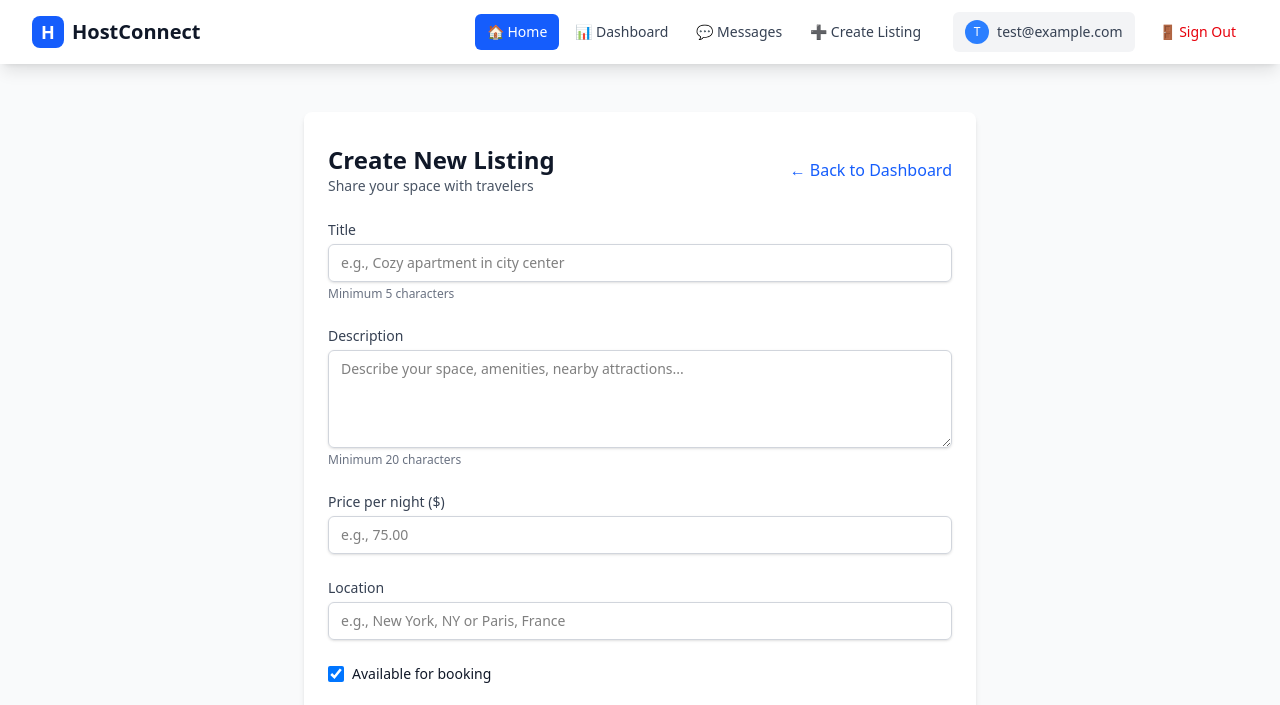
Test: CreateListing Form Validation › validates minimum field lengths
Note: Fill in fields with insufficient length
Type "Hi" into the field labelled "Title" at (640, 263), box [328, 244, 952, 282]
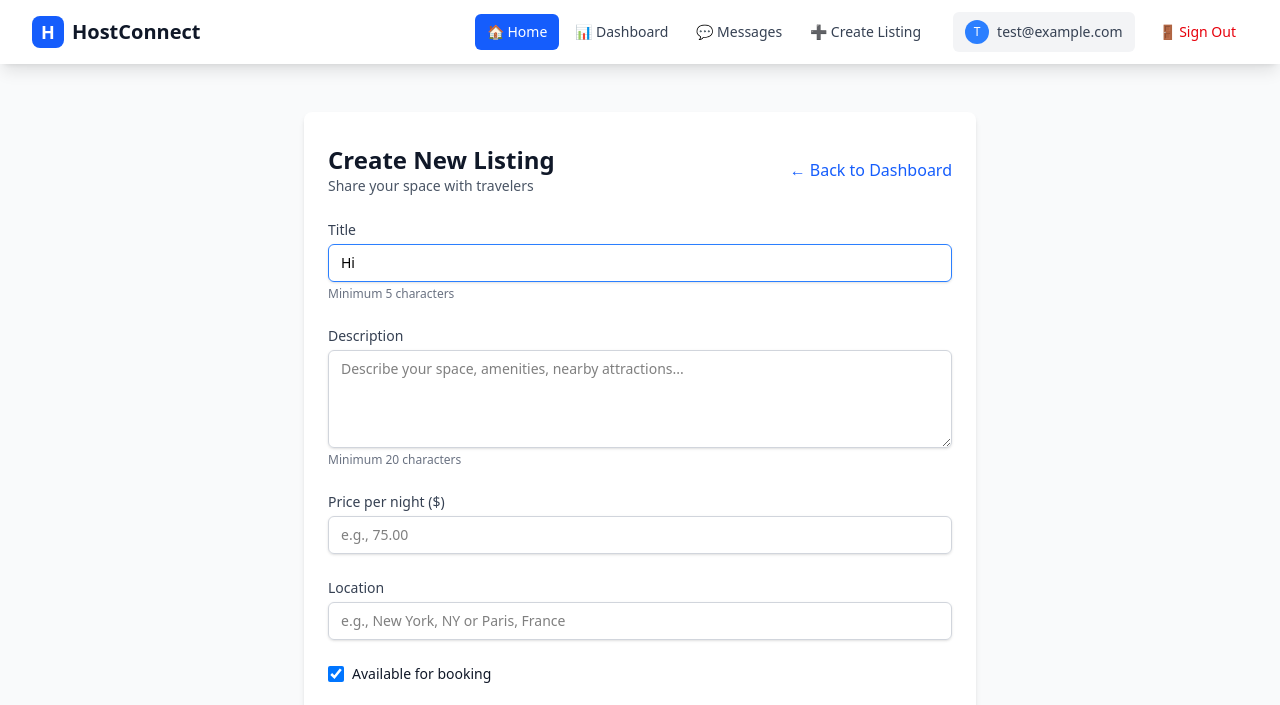
Type "Short" into the text box labelled "Description" at (640, 399), box [328, 350, 952, 448]
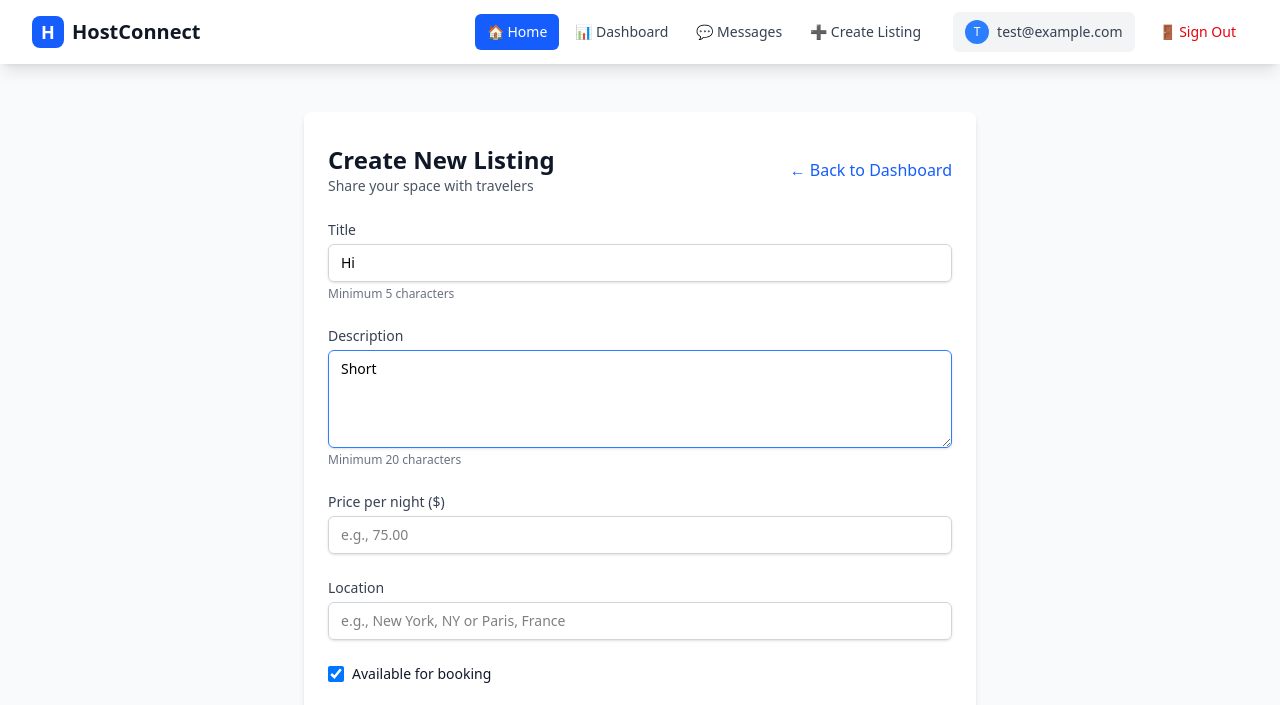
Type "NY" into the field labelled "Location" at (640, 621), box [328, 602, 952, 640]
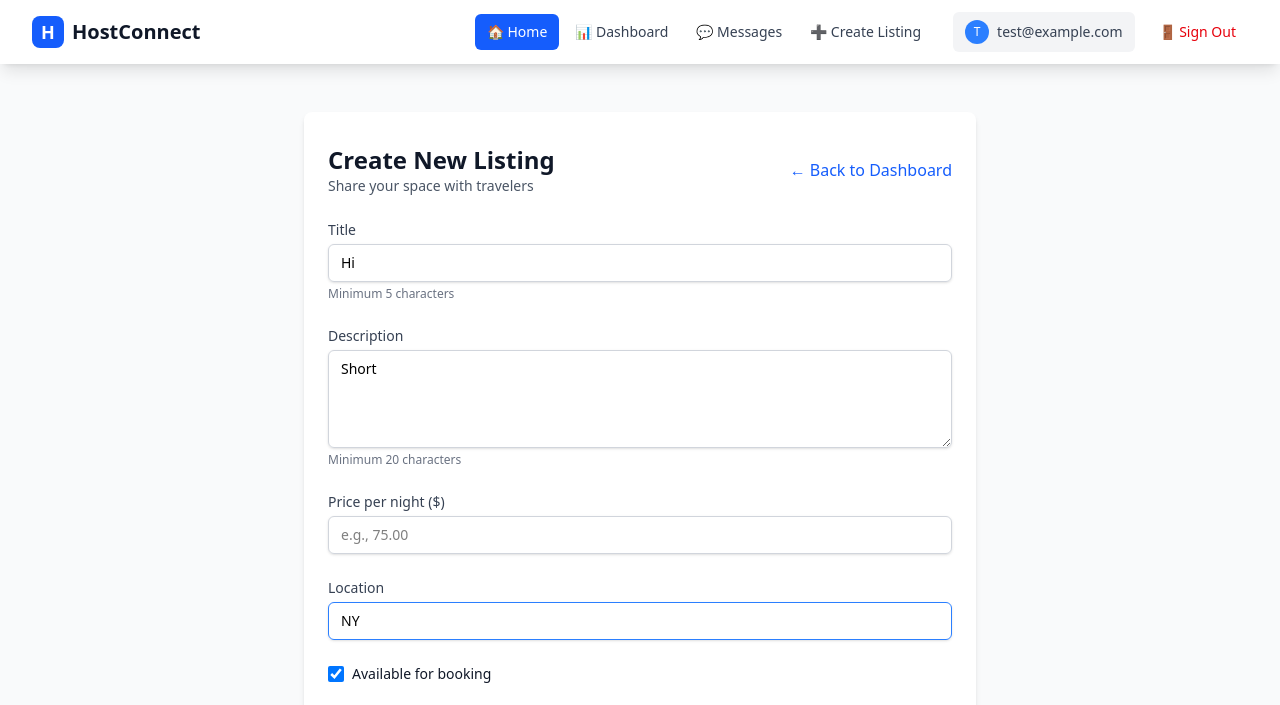
Type "50" into the number field labelled "Price per night ($)" at (640, 535), box [328, 516, 952, 554]
(page scrolled)
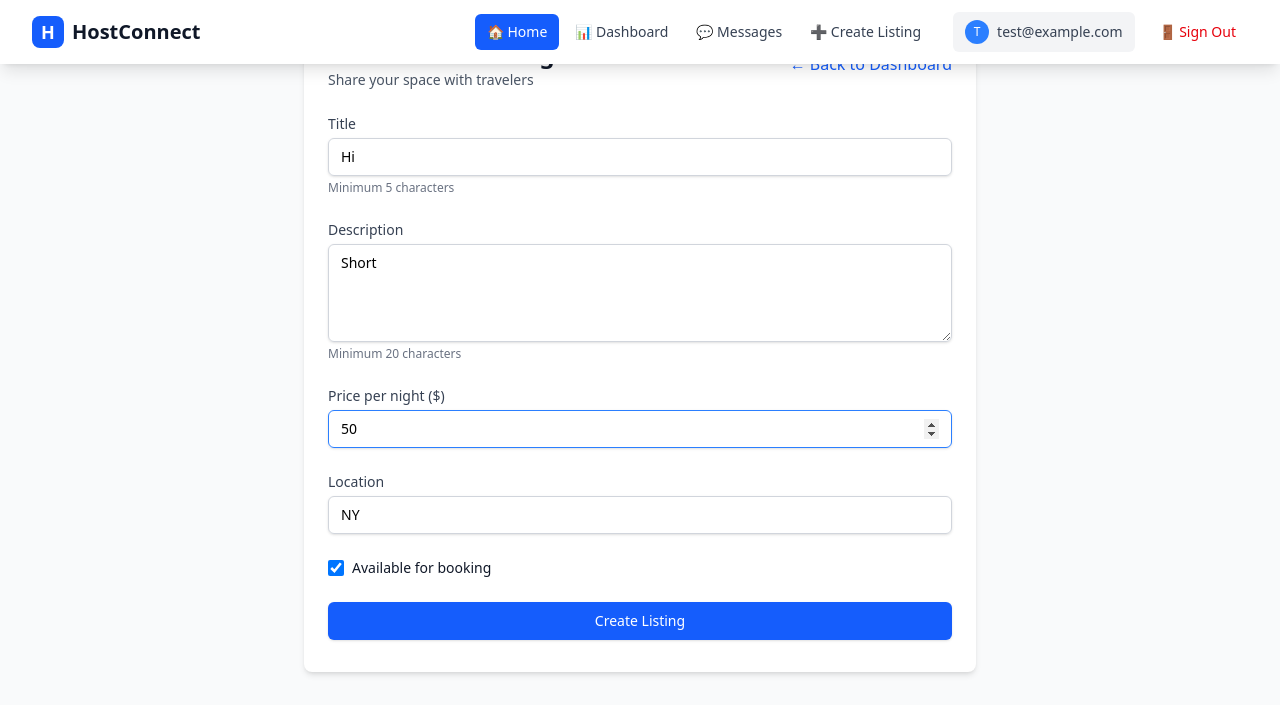
Click the button "Create Listing" at (640, 621), box [328, 602, 952, 640]
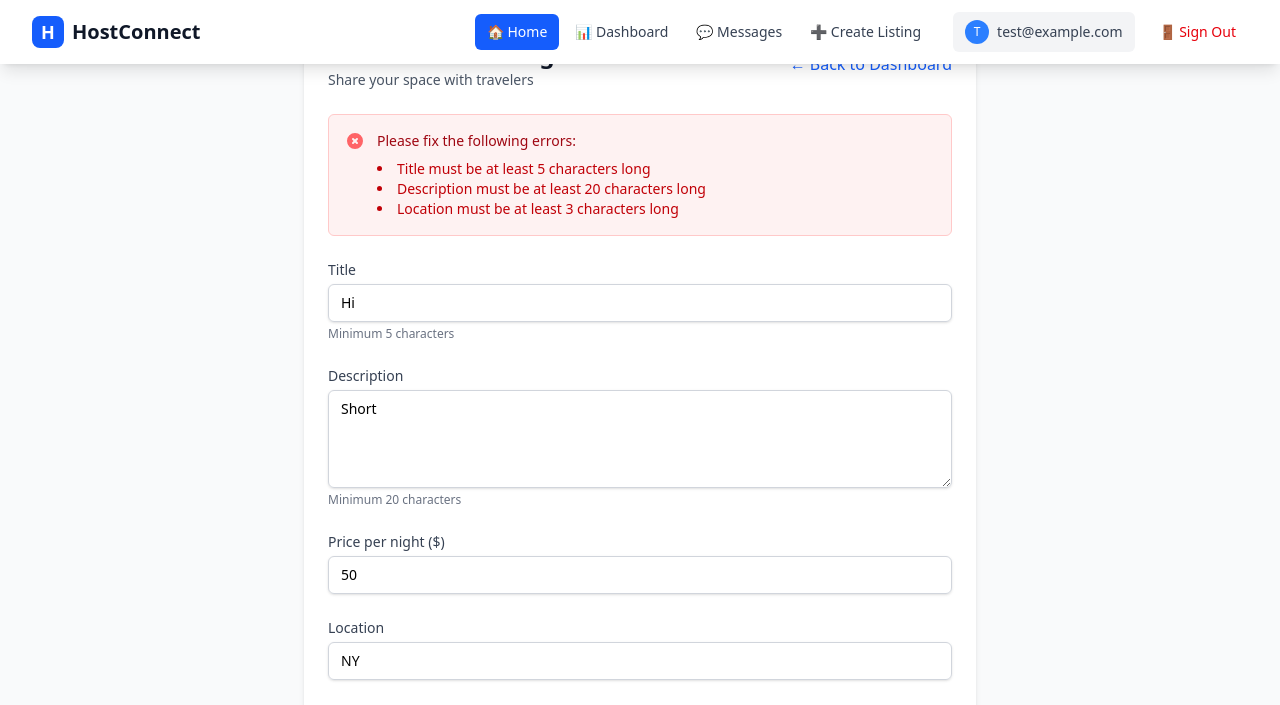
Expected: the list item "Title must be at least 5 characters long" is shown, [397, 159, 651, 178]
Expected: the list item "Description must be at least 20 characters long" is shown, [377, 179, 706, 199]
Expected: the list item "Location must be at least 3 characters long" is shown, [377, 199, 706, 219]
